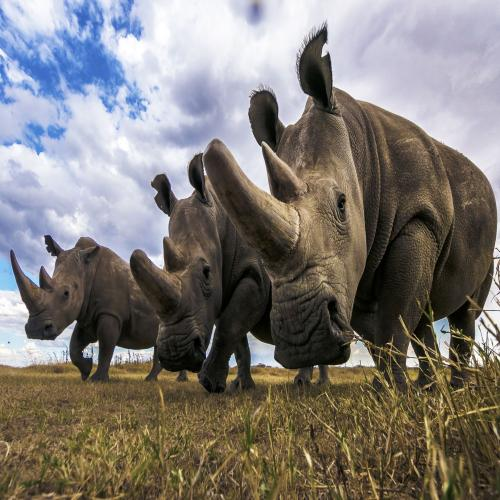rhino-endangered: (204, 15, 496, 386), (129, 151, 273, 391), (11, 232, 159, 382)
